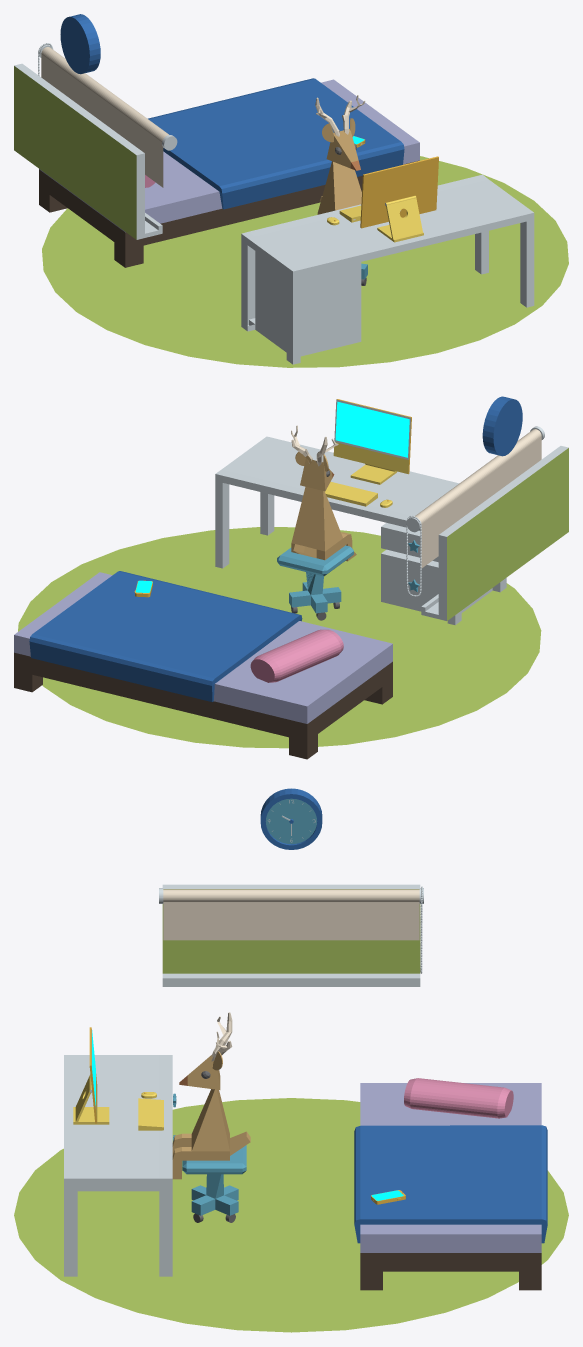
The model's file is bedroom.glb.
3 views of the same model, one above another, from view 1: azimuth 30°, elevation 25°; view 2: azimuth 150°, elevation 25°; view 3: azimuth 270°, elevation 25° (orthographic). The views are drawn at different scales.
Parts seen in each view (by area): view 1: floor, bed, desk, window, pc, deer, clock; view 2: floor, bed, window, desk, deer, pc screen, chair, pc, clock, keyboar; view 3: floor, bed, window, desk, deer, clock, chair, pc, keyboar.
Part boxes in pixels (<box>): floor: <box>42,156,568,367</box>; bed: <box>39,78,419,267</box>; desk: <box>241,174,534,364</box>; window: <box>14,44,177,239</box>; pc: <box>360,156,438,242</box>; deer: <box>315,95,365,214</box>; clock: <box>60,14,100,74</box>; floor: <box>18,527,541,748</box>; bed: <box>14,571,392,759</box>; window: <box>406,426,568,620</box>; desk: <box>215,436,506,624</box>; deer: <box>291,425,356,561</box>; pc screen: <box>335,401,409,457</box>; chair: <box>277,545,353,620</box>; pc: <box>333,399,411,484</box>; clock: <box>482,396,522,456</box>; keyboar: <box>325,482,377,506</box>; floor: <box>14,1098,568,1332</box>; bed: <box>354,1078,547,1290</box>; window: <box>159,884,423,986</box>; desk: <box>64,1055,176,1276</box>; deer: <box>172,1012,250,1179</box>; clock: <box>260,788,322,849</box>; chair: <box>182,1145,246,1222</box>; pc: <box>73,1027,109,1124</box>; keyboar: <box>138,1098,163,1130</box>.
Size of the model in its own units: 27.01 by 16.52 by 26.92.
Materials: 2 (1 with a texture image).
